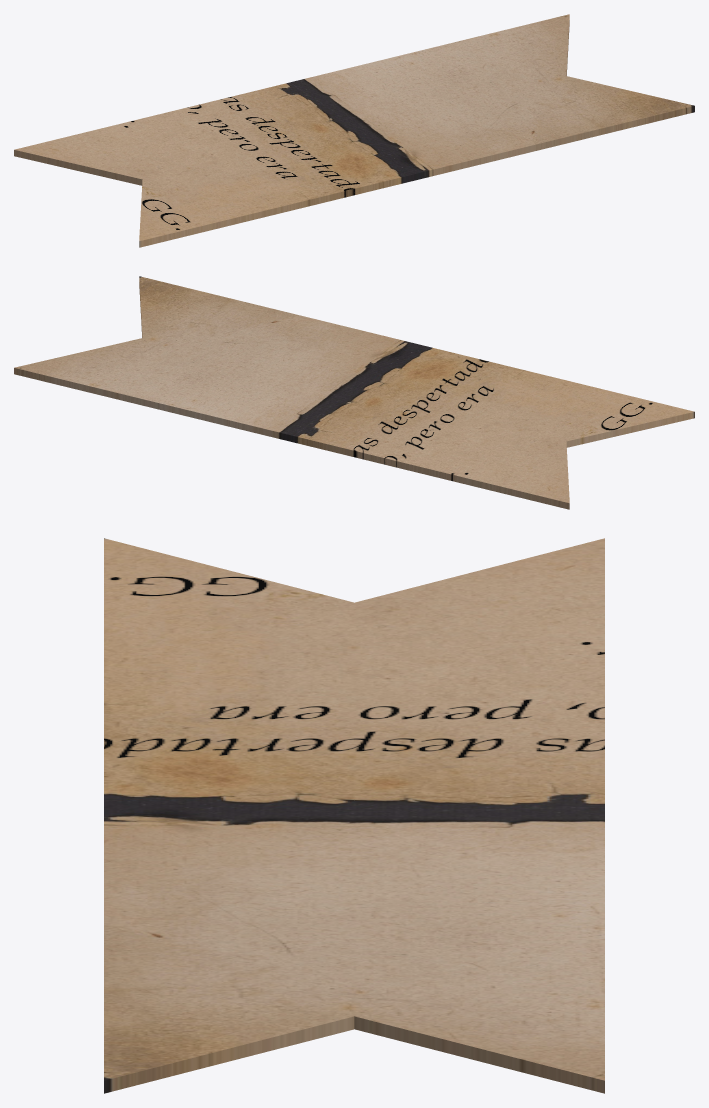
Rendered from Nota rgb.FBX.
The picture shows the model from 3 angles, top to bottom: view 1: azimuth 30°, elevation 25°; view 2: azimuth 150°, elevation 25°; view 3: azimuth 270°, elevation 25°; orthographic projection. The views are drawn at different scales.
Parts seen in each view (by area): view 1: Box002; view 2: Box002; view 3: Box002.
Part boxes in pixels (x1=…): Box002: x1=14, y1=14, x2=694, y2=247; Box002: x1=14, y1=276, x2=694, y2=509; Box002: x1=104, y1=538, x2=604, y2=1093.
Bounding box in the file's own units: 17.95 × 0.2 × 7.
